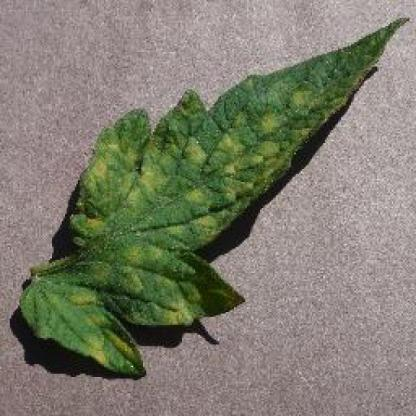Tomato_Leaf_Mold: (25, 16, 407, 370)
